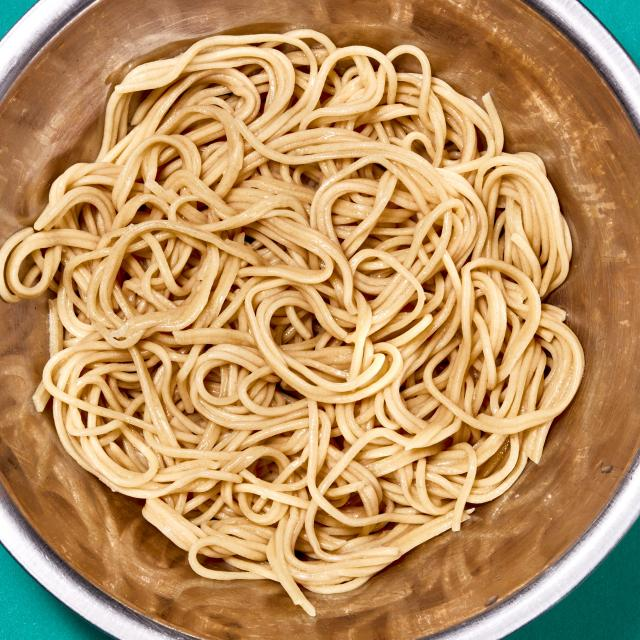noodle: (0, 24, 586, 590)
